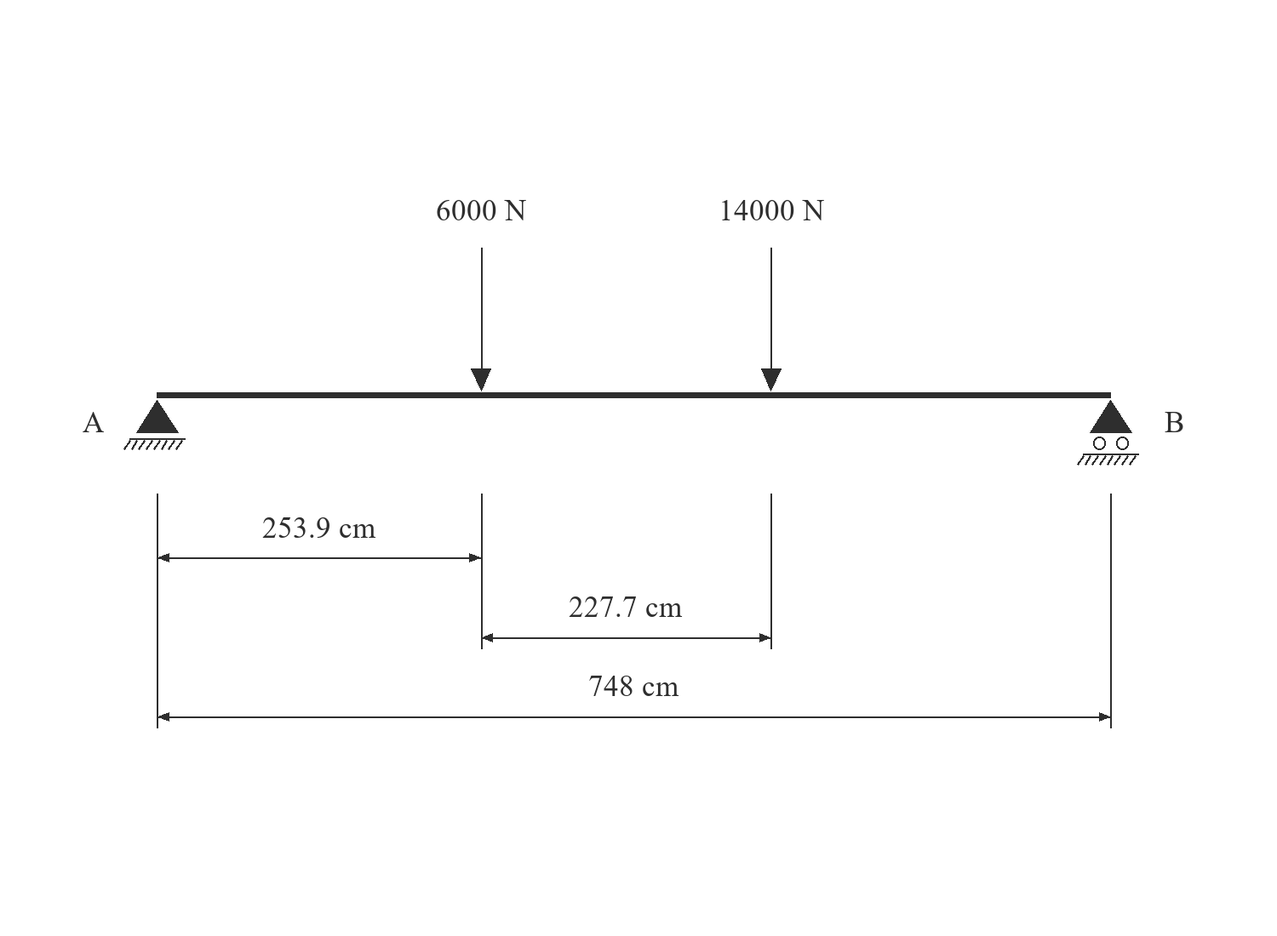pin_support: (123, 400, 186, 450)
point_load: (761, 248, 782, 391), (471, 248, 491, 391)
roller_support: (1077, 400, 1139, 465)
